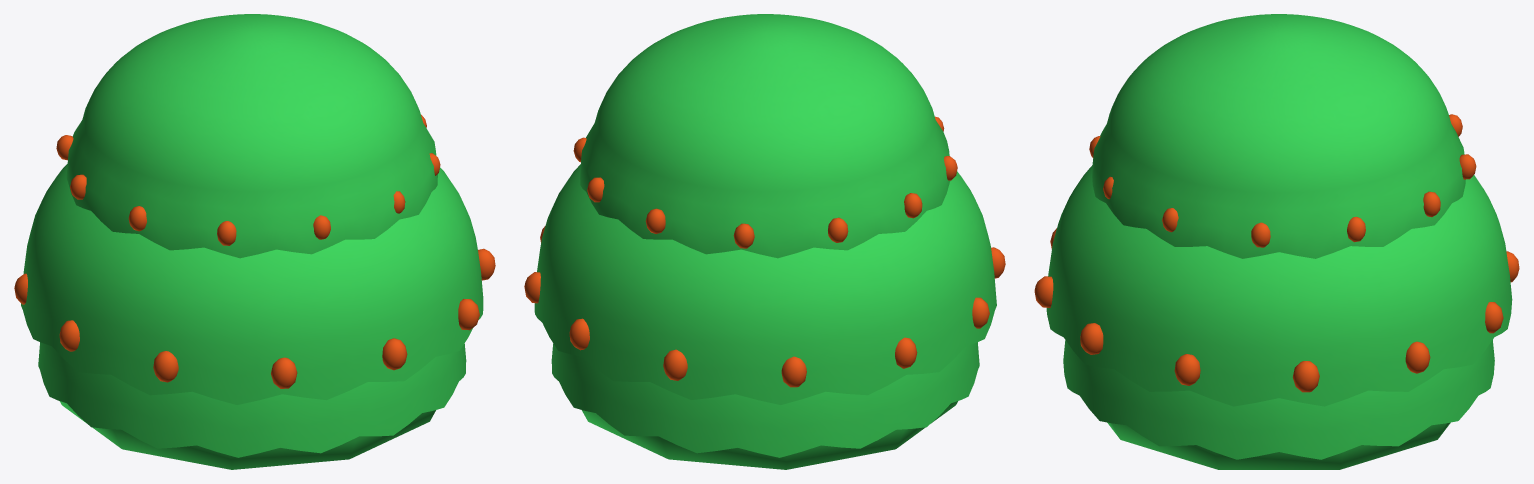
The model's file is bush2.fbx.
The picture shows the model from 3 angles, left to right: view 1: azimuth 30°, elevation 25°; view 2: azimuth 150°, elevation 25°; view 3: azimuth 270°, elevation 25°; orthographic projection.
Parts seen in each view (by area): view 1: Sphere.071; view 2: Sphere.071; view 3: Sphere.071.
Part boxes in pixels (left/top/right/bottom): Sphere.071: left=14, top=14, right=495, bottom=469; Sphere.071: left=524, top=14, right=1005, bottom=469; Sphere.071: left=1034, top=14, right=1519, bottom=469.
Bounding box in the file's own units: 148 × 130 × 148.
